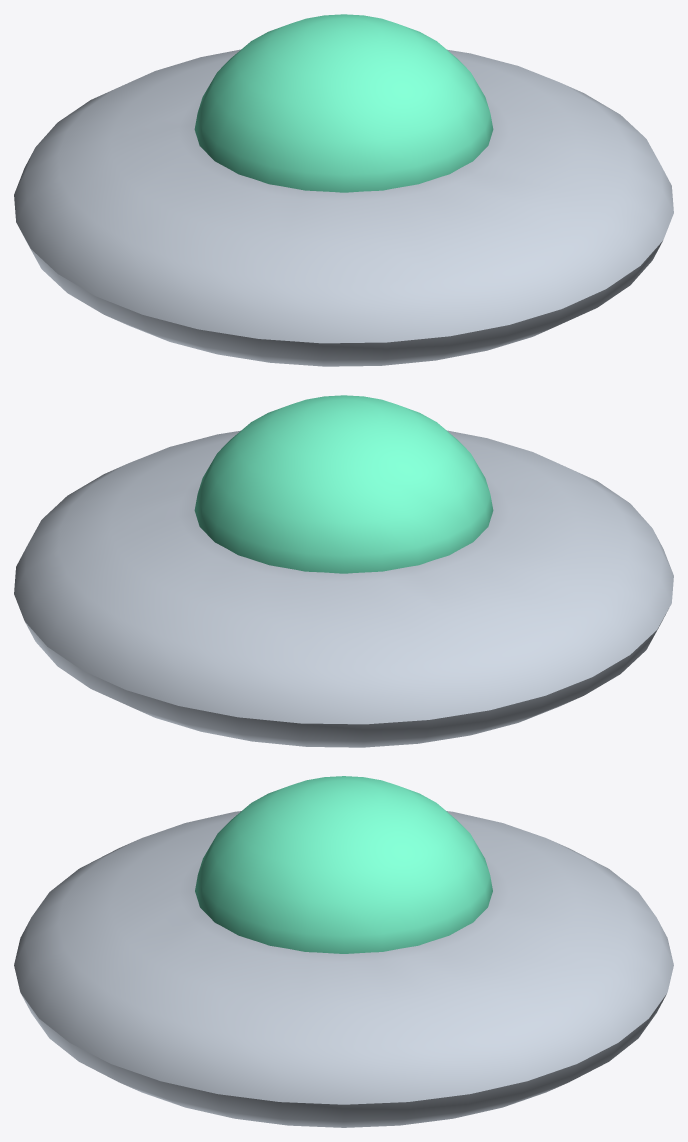
File: sp_ufo.glb
3 renders of one model, top to bottom at view 1: azimuth 30°, elevation 25°; view 2: azimuth 150°, elevation 25°; view 3: azimuth 270°, elevation 25°, orthographic.
Parts seen in each view (by area): view 1: sp_ufo; view 2: sp_ufo; view 3: sp_ufo.
Boxes of the visible parts, box(x1,y1,x2,y2) form: sp_ufo: box(14, 14, 673, 366); sp_ufo: box(14, 395, 673, 747); sp_ufo: box(14, 776, 673, 1127).
Bounding box in the file's own units: 2.4 × 1.05 × 2.4.
